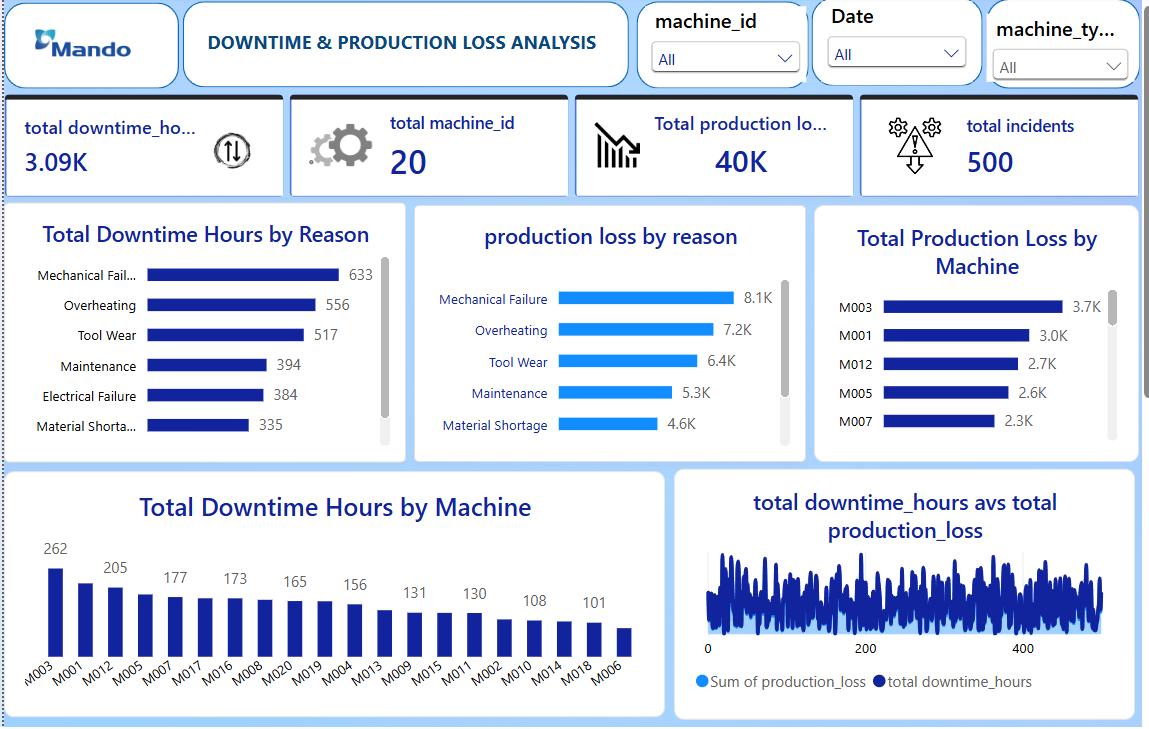

Layout of this report page (visuals, bound fields, positions):
{"tool":"powerbi","page":{"name":"Page 1","canvas":[1920,1080],"ordinal":0},"visuals":[{"type":"shape","box":[0,10.2,139.8,68.4],"z":0},{"type":"shape","box":[143,9,357,69],"z":1000},{"type":"shape","box":[506,9,138,70],"z":2000},{"type":"shape","box":[646,6,137,71],"z":3000},{"type":"shape","box":[786,7,123,72],"z":4000},{"type":"image","box":[0,0,126.9,84.6],"z":5000},{"type":"textbox","box":[132,146,286,61],"z":6000},{"type":"textbox","box":[159,31,325,50],"z":7000},{"type":"slicer","fields":{"Values":["manufacturing_downtime_analysis.machine_id"]},"box":[513,13,129,61],"z":8000},{"type":"slicer","fields":{"Values":["manufacturing_downtime_analysis.date"]},"box":[654,9,121,65],"z":9000},{"type":"slicer","fields":{"Values":["manufacturing_downtime_analysis.machine_type"]},"box":[786,19,119,55],"z":10000},{"type":"cardVisual","fields":{"Data":["Sum(manufacturing_downtime_analysis.downtime_hours)","Count(manufacturing_downtime_analysis.machine_id)","Sum(manufacturing_downtime_analysis.production_loss)","CountNonNull(manufacturing_downtime_analysis.record_id)"]},"box":[0,83,909,83],"z":11000},{"type":"barChart","title":"Total Downtime Hours by Reason","fields":{"Y":["Sum(manufacturing_downtime_analysis.downtime_hours)"],"Category":["manufacturing_downtime_analysis.downtime_reason"]},"box":[0,170,322,208],"z":12000},{"type":"barChart","title":"production loss by reason","fields":{"Y":["Sum(manufacturing_downtime_analysis.production_loss)"],"Category":["manufacturing_downtime_analysis.downtime_reason"]},"box":[328,172,314,206],"z":13000},{"type":"lineClusteredColumnComboChart","title":"Total Downtime Hours by Machine","fields":{"Category":["manufacturing_downtime_analysis.machine_id"],"Y":["Sum(manufacturing_downtime_analysis.downtime_hours)"]},"box":[0,385,529,197],"z":14000},{"type":"barChart","title":"Total Production Loss by Machine","fields":{"Category":["manufacturing_downtime_analysis.machine_id"],"Y":["Sum(manufacturing_downtime_analysis.production_loss)"]},"box":[648,172,260,206],"z":15000},{"type":"stackedAreaChart","title":"total downtime_hours avs total production_loss ","fields":{"Category":["manufacturing_downtime_analysis.record_id"],"Y":["Sum(manufacturing_downtime_analysis.production_loss)","Sum(manufacturing_downtime_analysis.downtime_hours)1"]},"box":[536,383,369,201],"z":16000}]}

Visuals, with their boxes on the page's 1920x1080 design canvas (x1, y1, x2, y2). These are canvas units, not pixel positions in the 1149x729 screenshot, which may show the page scaled, cropped or inside an application window:
shape: 0 10 140 79
shape: 143 9 500 78
shape: 506 9 644 79
shape: 646 6 783 77
shape: 786 7 909 79
image: 0 0 127 85
textbox: 132 146 418 207
textbox: 159 31 484 81
slicer - manufacturing_downtime_analysis.machine_id: 513 13 642 74
slicer - manufacturing_downtime_analysis.date: 654 9 775 74
slicer - manufacturing_downtime_analysis.machine_type: 786 19 905 74
cardVisual - Sum(manufacturing_downtime_analysis.downtime_hours) x Count(manufacturing_downtime_analysis.machine_id): 0 83 909 166
"Total Downtime Hours by Reason" barChart: 0 170 322 378
"production loss by reason" barChart: 328 172 642 378
"Total Downtime Hours by Machine" lineClusteredColumnComboChart: 0 385 529 582
"Total Production Loss by Machine" barChart: 648 172 908 378
"total downtime_hours avs total production_loss " stackedAreaChart: 536 383 905 584
